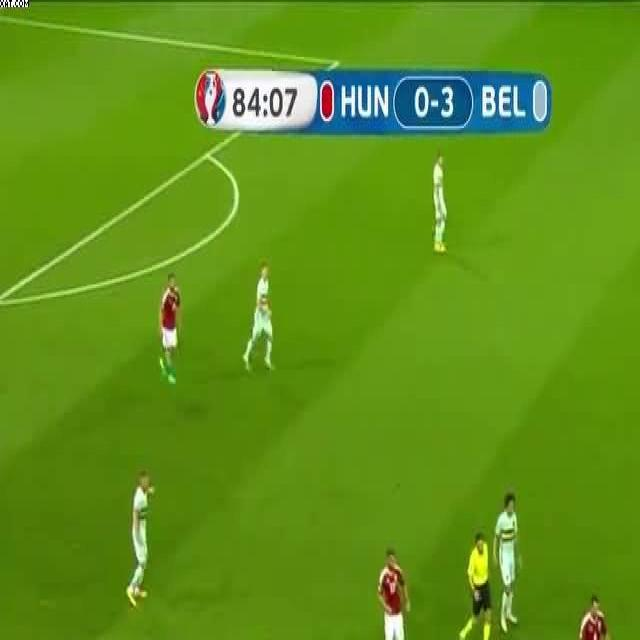player-white: (125, 472, 157, 608), (493, 493, 522, 633), (458, 533, 491, 640), (243, 261, 273, 373), (377, 547, 411, 640), (158, 271, 180, 383), (569, 590, 614, 640), (431, 151, 449, 253)
